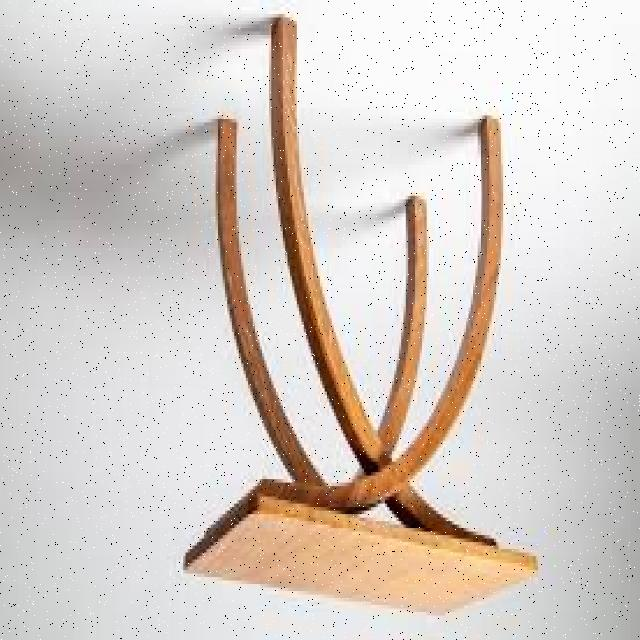mobile-phone: (174, 14, 536, 620)
